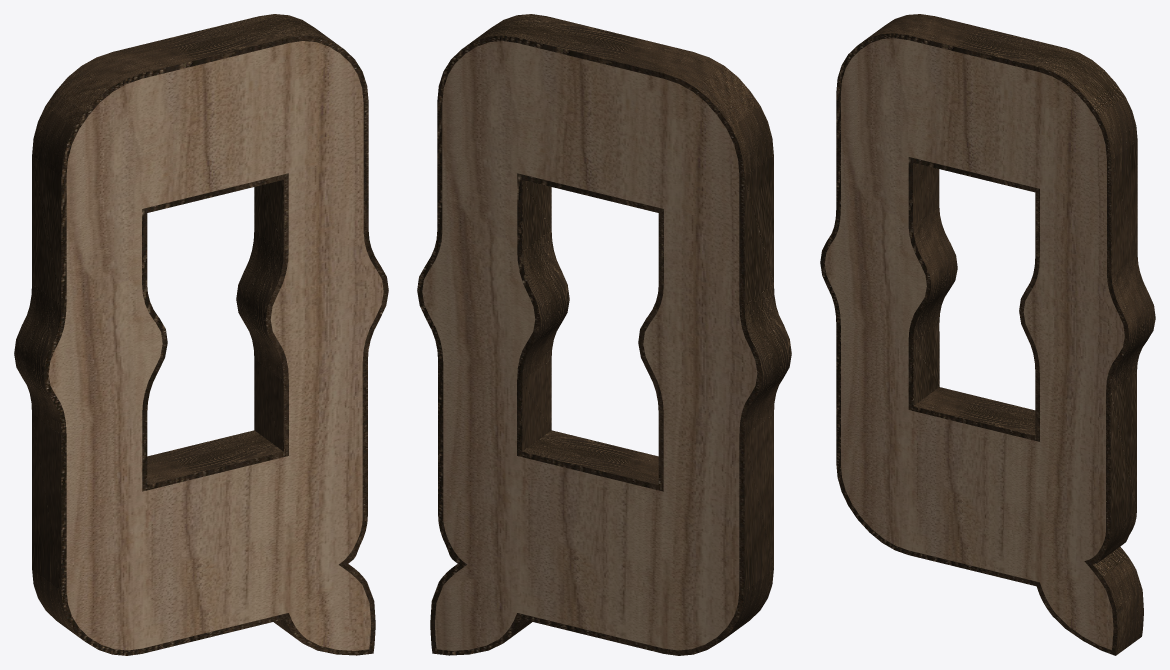
3 views of the same model, side by side, from view 1: azimuth 30°, elevation 25°; view 2: azimuth 150°, elevation 25°; view 3: azimuth 330°, elevation 25° (orthographic). The views are drawn at different scales.
Visible parts, largest first — view 1: Q, Q_outline; view 2: Q, Q_outline; view 3: Q, Q_outline.
Boxes of the visible parts, x1=… form: Q: x1=48, y1=41, x2=383, y2=650; Q_outline: x1=14, y1=14, x2=388, y2=655; Q: x1=422, y1=41, x2=757, y2=650; Q_outline: x1=417, y1=14, x2=791, y2=655; Q: x1=824, y1=38, x2=1124, y2=649; Q_outline: x1=820, y1=14, x2=1155, y2=655.
Size of the model in its own units: 67.82 by 119 by 10.
Materials: 2 (2 with a texture image).
